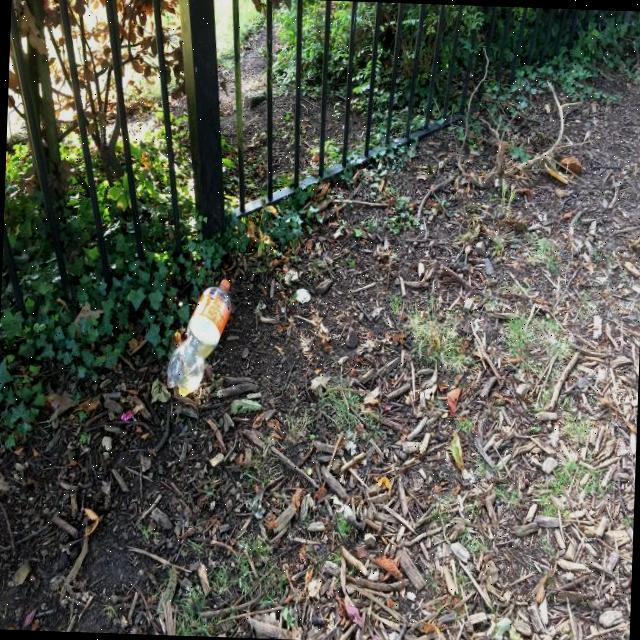bottle: (158, 280, 245, 396)
cap: (218, 278, 232, 288)
label: (184, 292, 235, 332)
